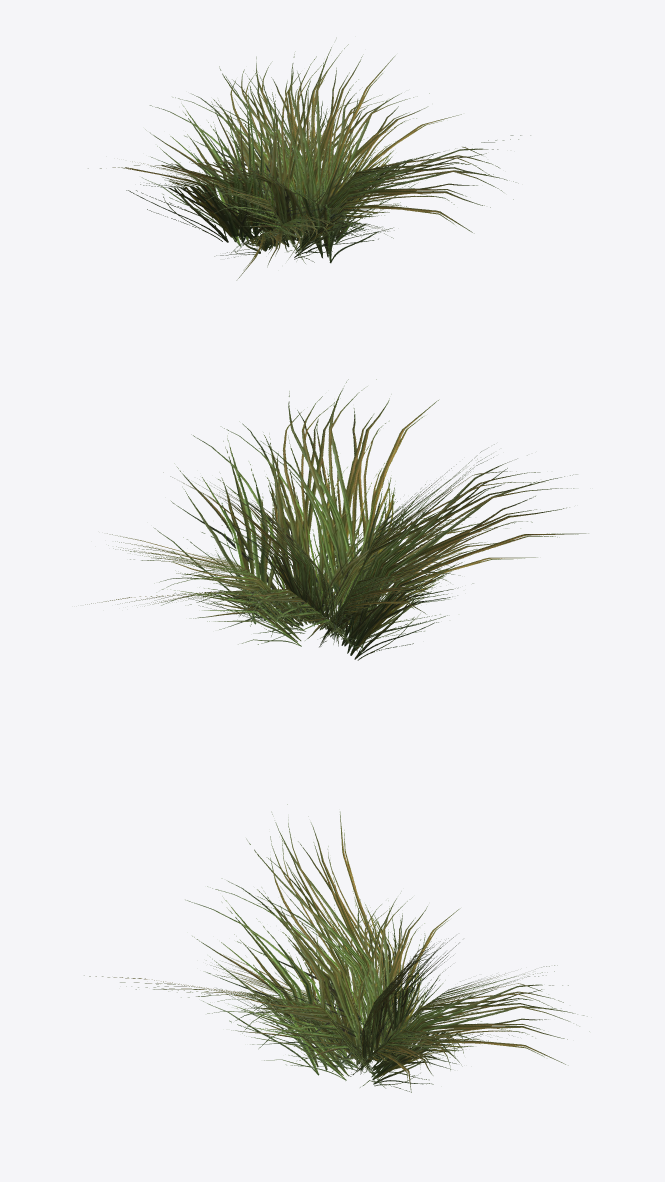
The model's file is DF_JP_Grass_03.fbx.
The picture shows the model from 3 angles, top to bottom: view 1: azimuth 30°, elevation 25°; view 2: azimuth 150°, elevation 25°; view 3: azimuth 270°, elevation 25°; orthographic projection. The views are drawn at different scales.
Visible parts, largest first — view 1: DF_JP_Grass_03_LOD0; view 2: DF_JP_Grass_03_LOD0; view 3: DF_JP_Grass_03_LOD0.
Boxes of the visible parts, x1,y1,x2,y2 form: DF_JP_Grass_03_LOD0: (88,37,530,280); DF_JP_Grass_03_LOD0: (85,379,588,660); DF_JP_Grass_03_LOD0: (84,804,589,1092).
Size of what is drawn, in the model's own units: 164 by 57.22 by 160.
